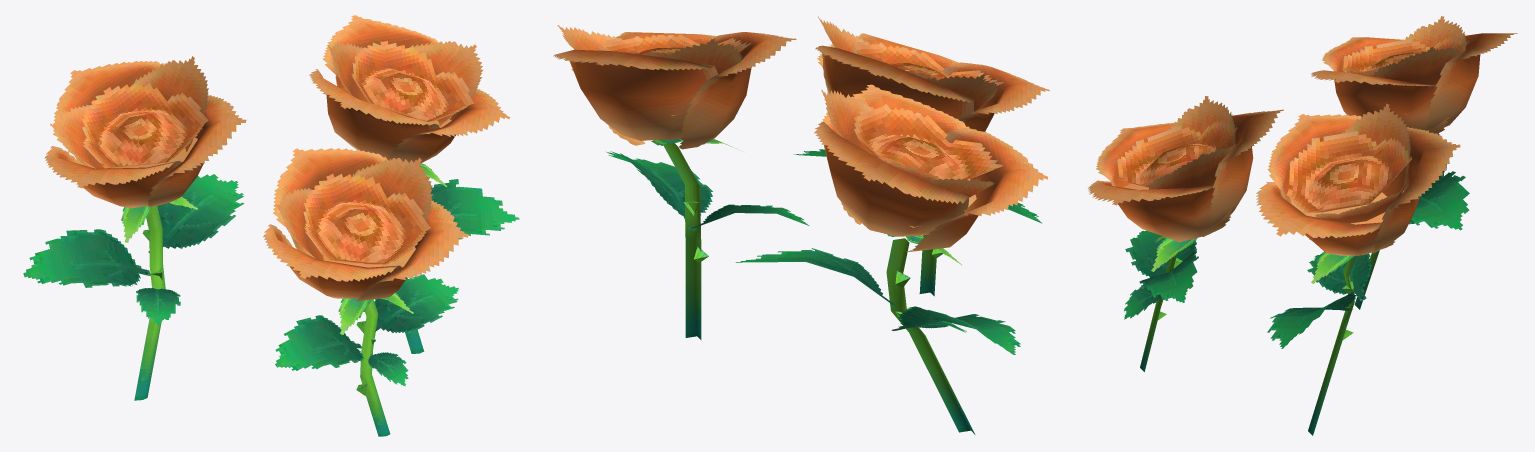
File: orange-roses.glb
3 views of the same model, side by side, from view 1: azimuth 30°, elevation 25°; view 2: azimuth 150°, elevation 25°; view 3: azimuth 270°, elevation 25° (orthographic). The views are drawn at different scales.
Size of the model in its own units: 10.07 by 6.53 by 8.37.
Materials: 2 (2 with a texture image).
